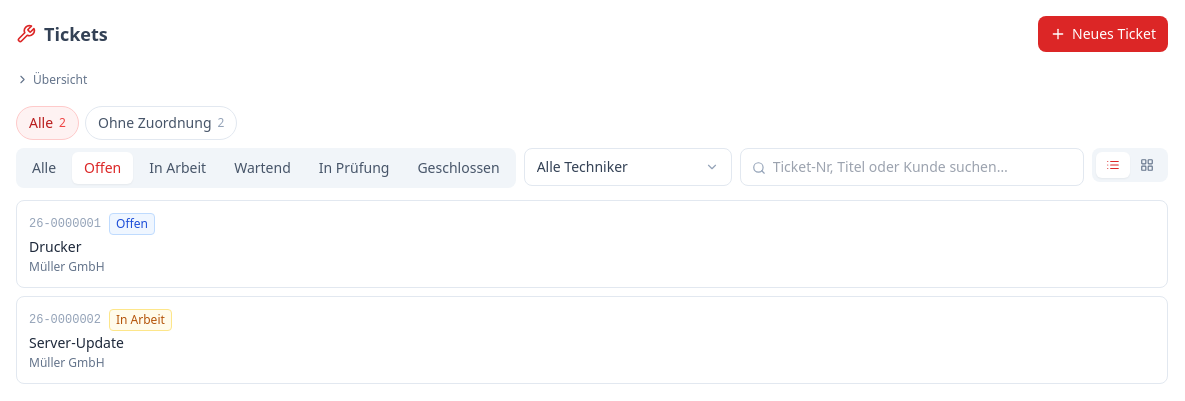
it: TicketsPage › filters by the freetext search field
Expected: the text "Drucker" is shown, 29,236 -> 82,256
Expected: the number of list items with test id "ticket-row" is 2, 16,200 -> 1168,288; 16,296 -> 1168,384
In the search field with placeholder "Ticket-Nr, Titel oder Kunde suchen…": point(912, 166) 740,148 -> 1084,186, type "Server"
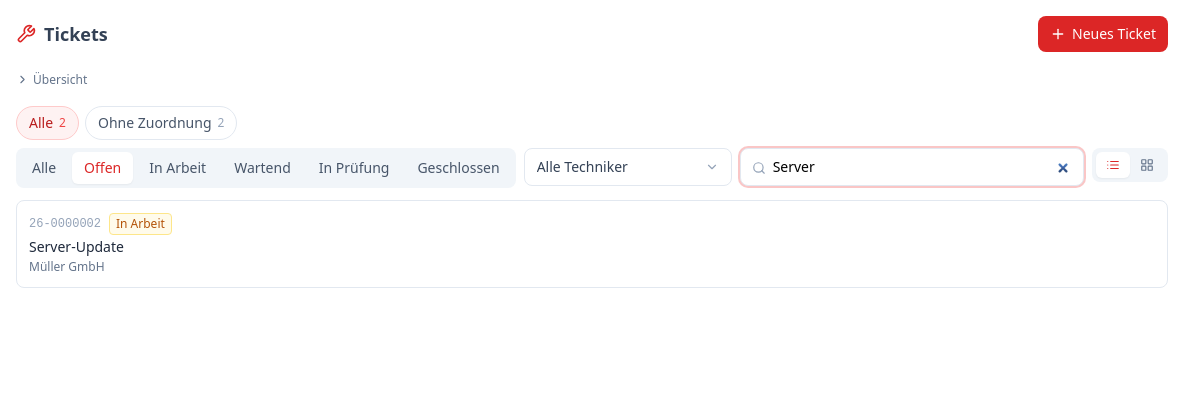
Expected: the text "Server-Update" is shown, 29,236 -> 124,256
Expected: the number of list items with test id "ticket-row" is 1, 16,200 -> 1168,288
